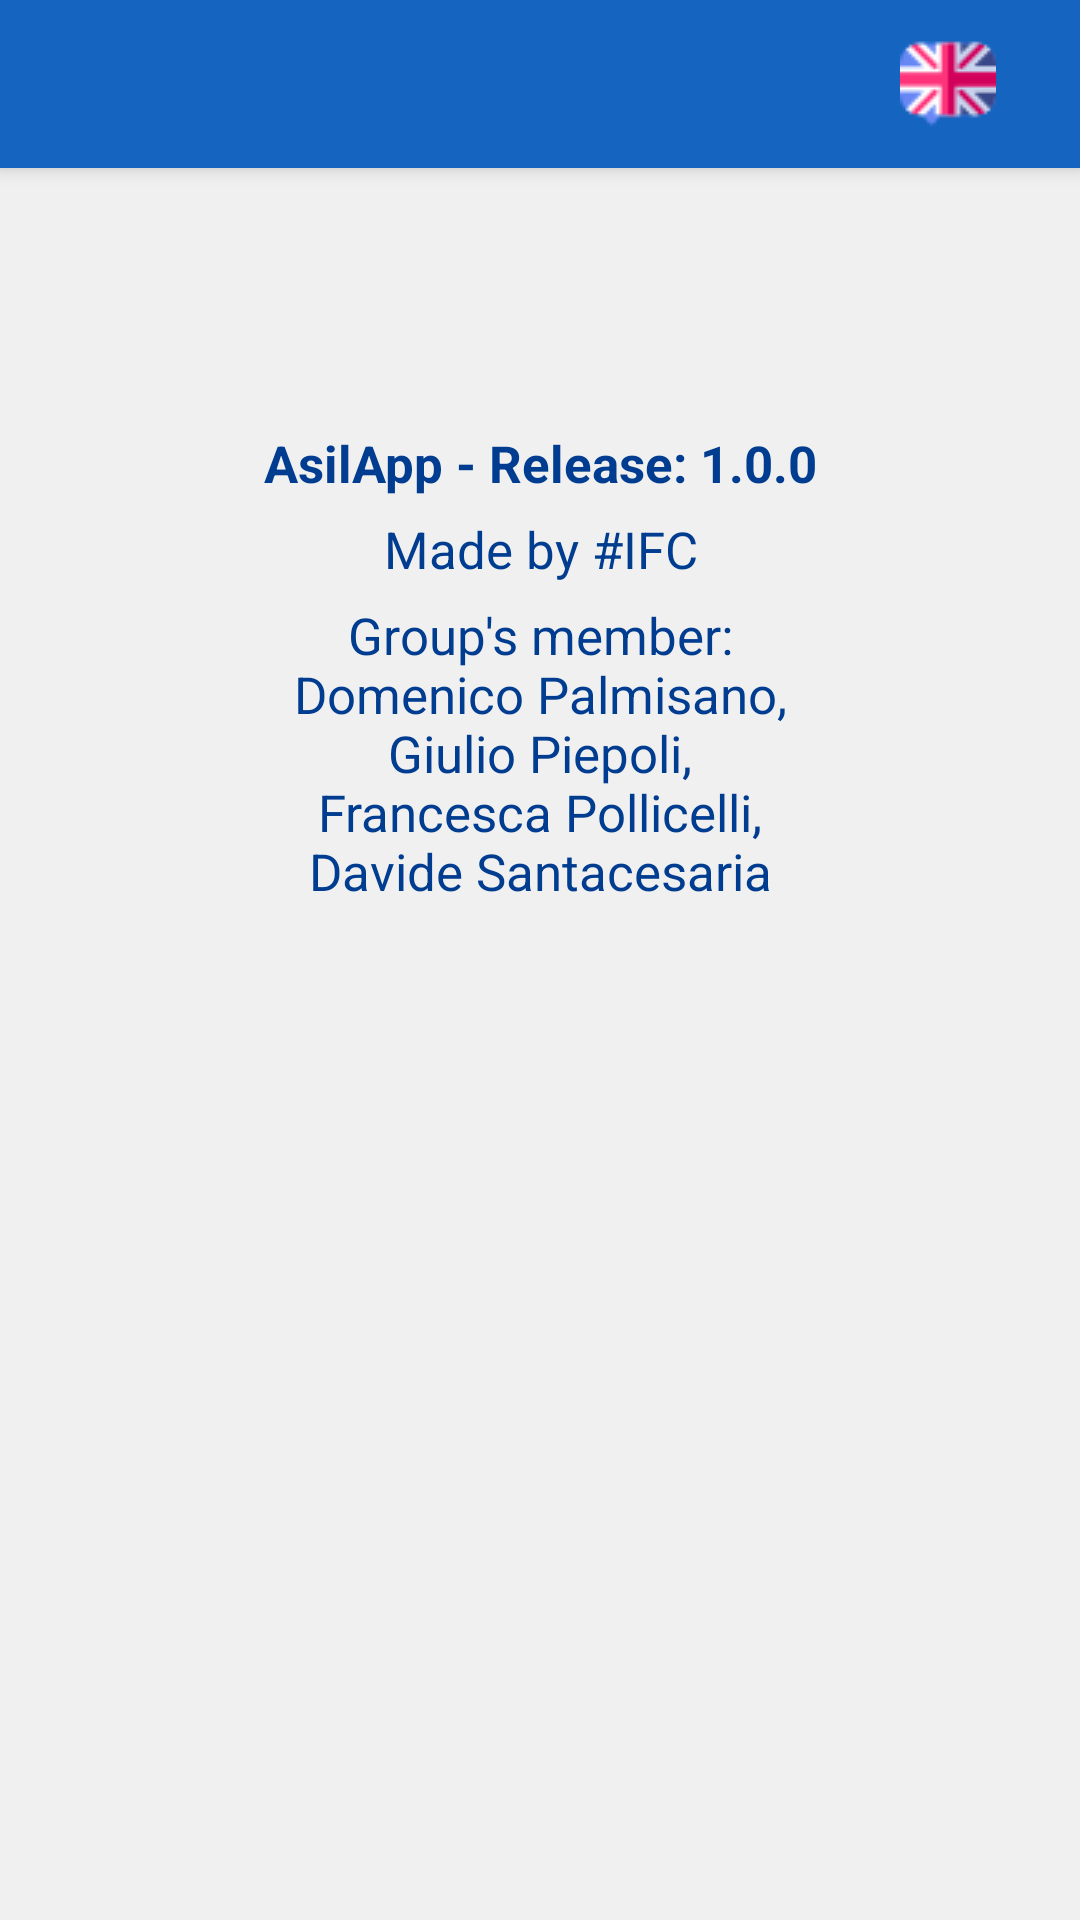

Where icons sit on this 1080x1920 app screen, as (x1, y1, x2, y2):
lang: (900, 41, 996, 125)
